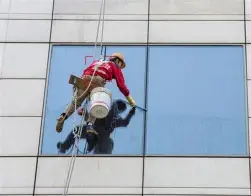safety belt: (85, 57, 111, 88)
